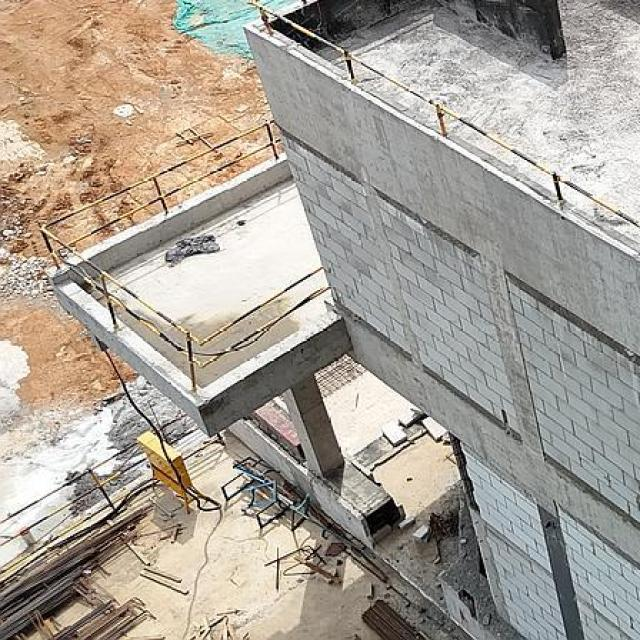edge_guardrail: (247, 1, 640, 236), (38, 118, 332, 392), (0, 413, 224, 577)
